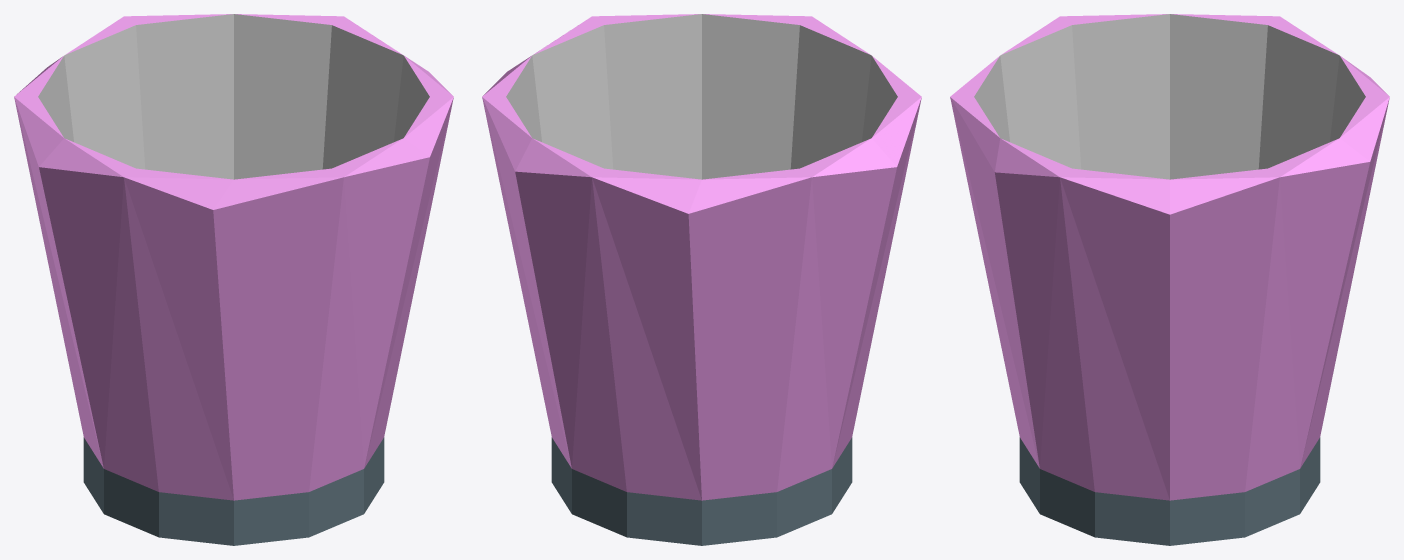
3 views of the same model, side by side, from view 1: azimuth 30°, elevation 25°; view 2: azimuth 150°, elevation 25°; view 3: azimuth 270°, elevation 25° (orthographic).
Parts seen in each view (by area): view 1: node_MeshObject-1282645696-PolyGem25, node_MeshObject-1801365760-PolyPaper16; view 2: node_MeshObject-1282645696-PolyGem25, node_MeshObject-1801365760-PolyPaper16; view 3: node_MeshObject-1282645696-PolyGem25, node_MeshObject-1801365760-PolyPaper16.
Boxes of the visible parts, x1,y1,x2,y2 form: node_MeshObject-1282645696-PolyGem25: (14, 14, 453, 500); node_MeshObject-1801365760-PolyPaper16: (38, 14, 429, 545); node_MeshObject-1282645696-PolyGem25: (482, 14, 921, 500); node_MeshObject-1801365760-PolyPaper16: (506, 14, 897, 545); node_MeshObject-1282645696-PolyGem25: (950, 14, 1389, 500); node_MeshObject-1801365760-PolyPaper16: (974, 14, 1365, 545).
Size of the model in its own units: 0.18 by 0.17 by 0.1757.
